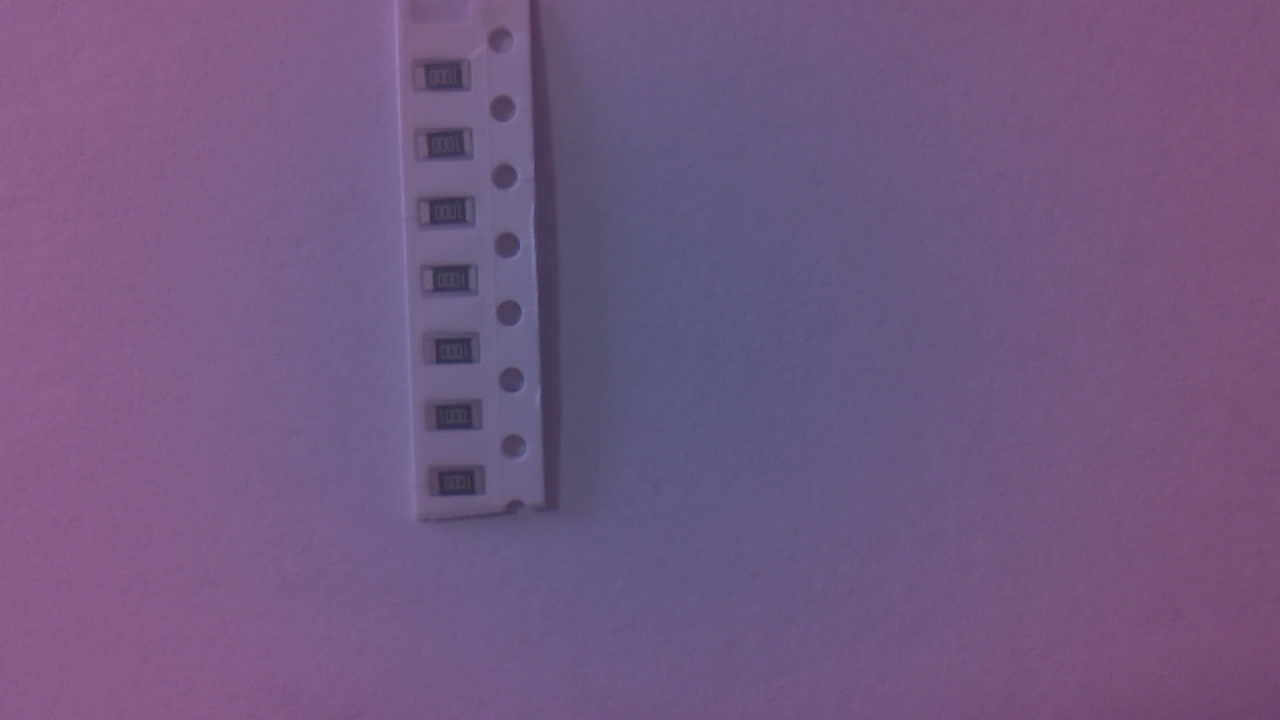Resistor: (422, 199, 483, 234), (429, 402, 490, 437), (417, 65, 479, 98), (420, 131, 481, 164), (431, 468, 490, 502), (430, 335, 487, 370), (427, 267, 485, 301)
